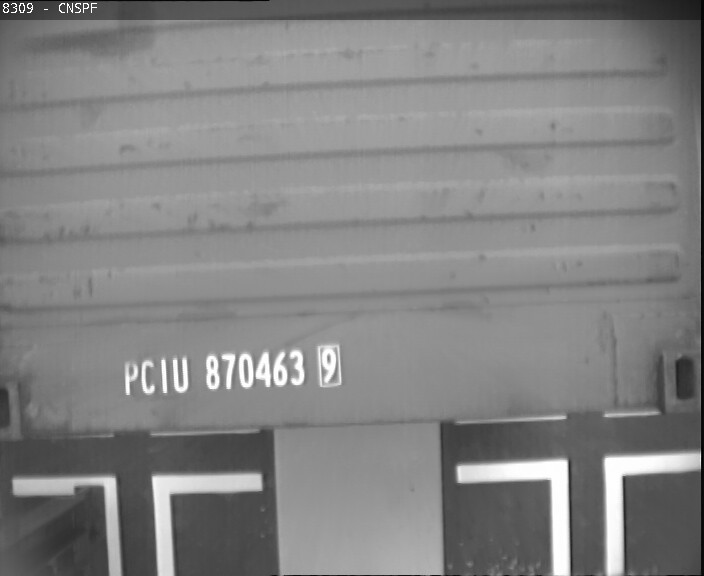groundmarker_1: (460, 448, 704, 576), (14, 472, 262, 576)
